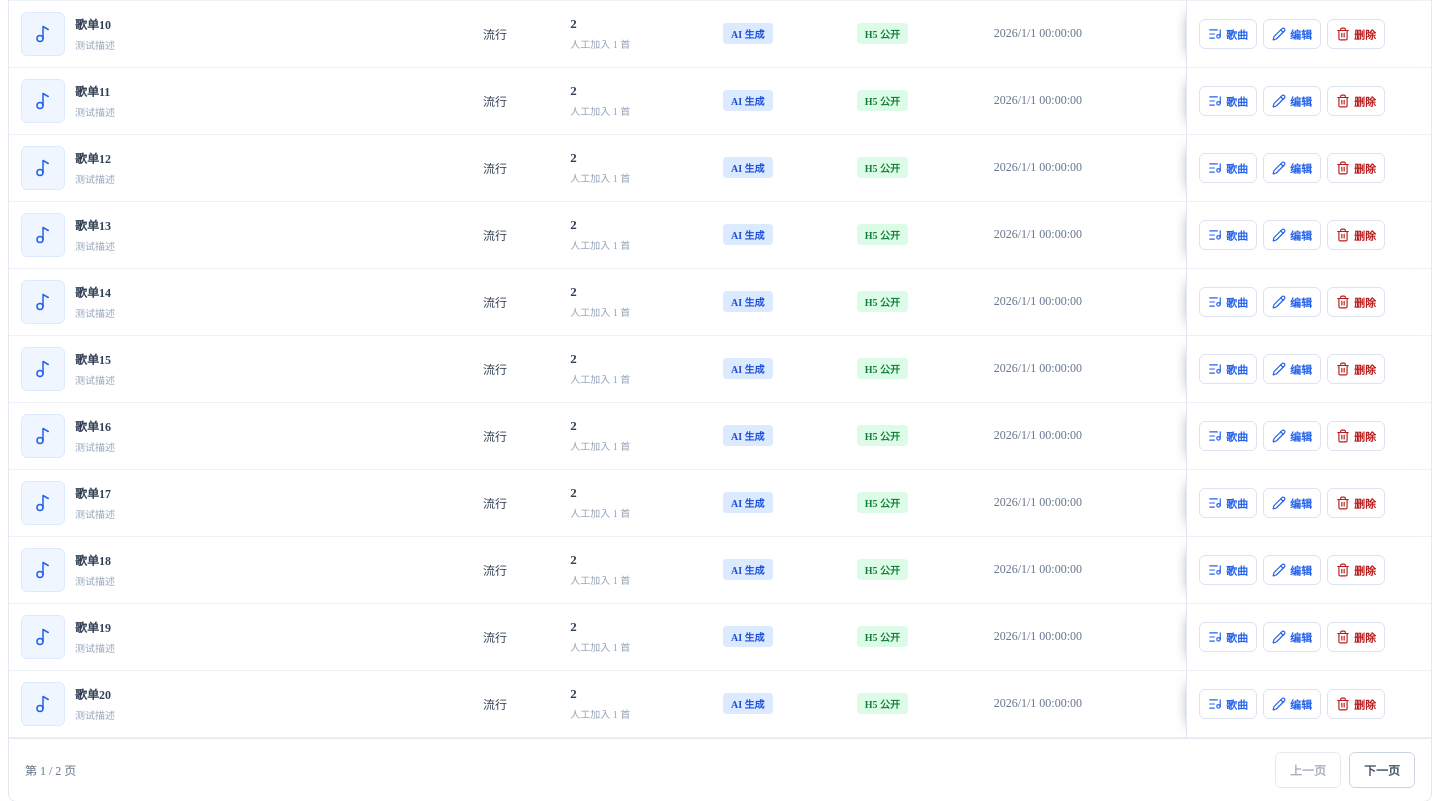
Test case: AiLibraryView › clamps the current page after deleting the only playlist on the last page
(page scrolled)
Click the button "下一页" at (1382, 770), box [1349,752,1415,788]
(page scrolled)
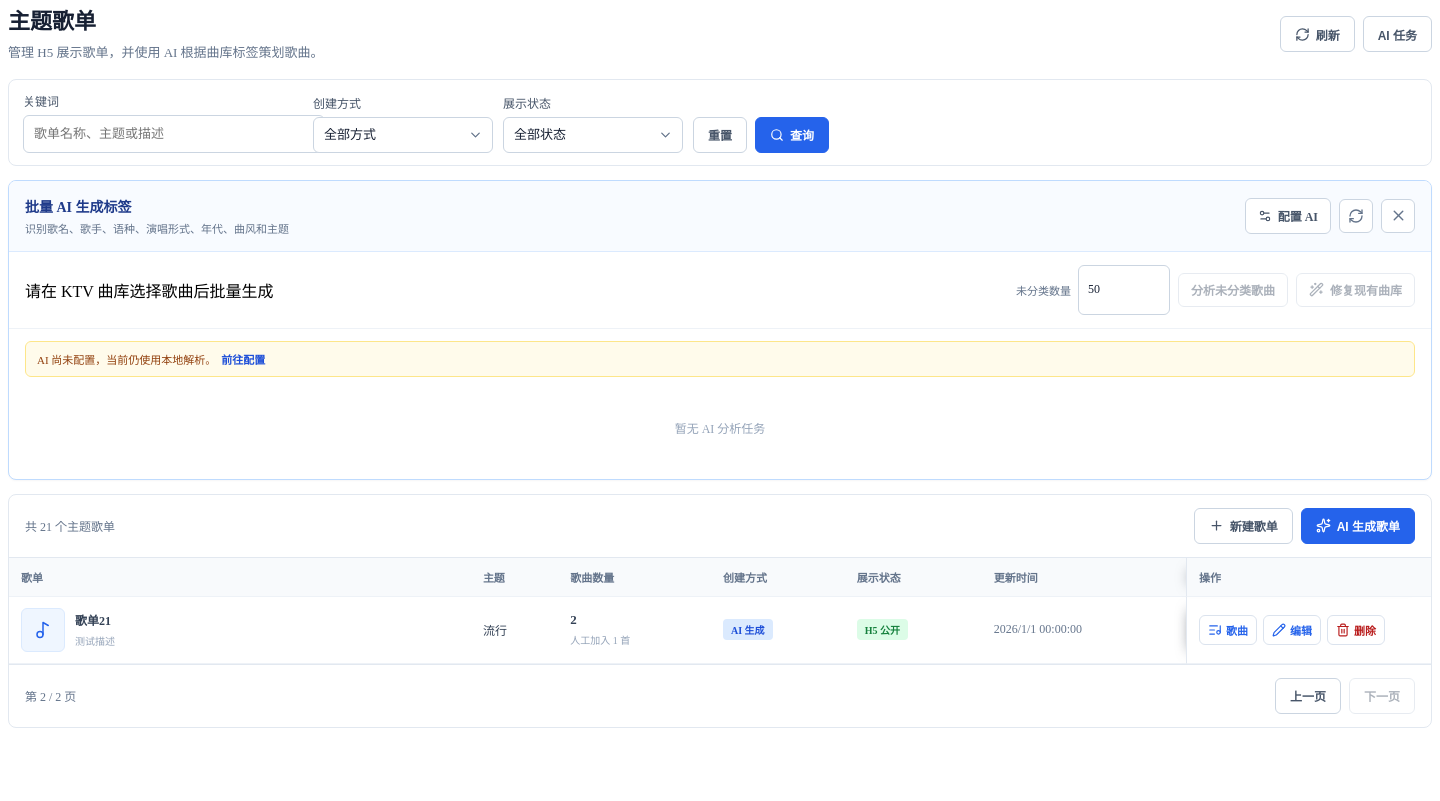
Expected: the element showing "第 2 / 2 页 上一页 下一页" is shown, [9,664,1431,726]
Expected: the row that starts with "歌单21" is shown, [75,614,111,628]
Click the button titled "管理歌曲" at (1228, 630), box [1199,614,1257,644]
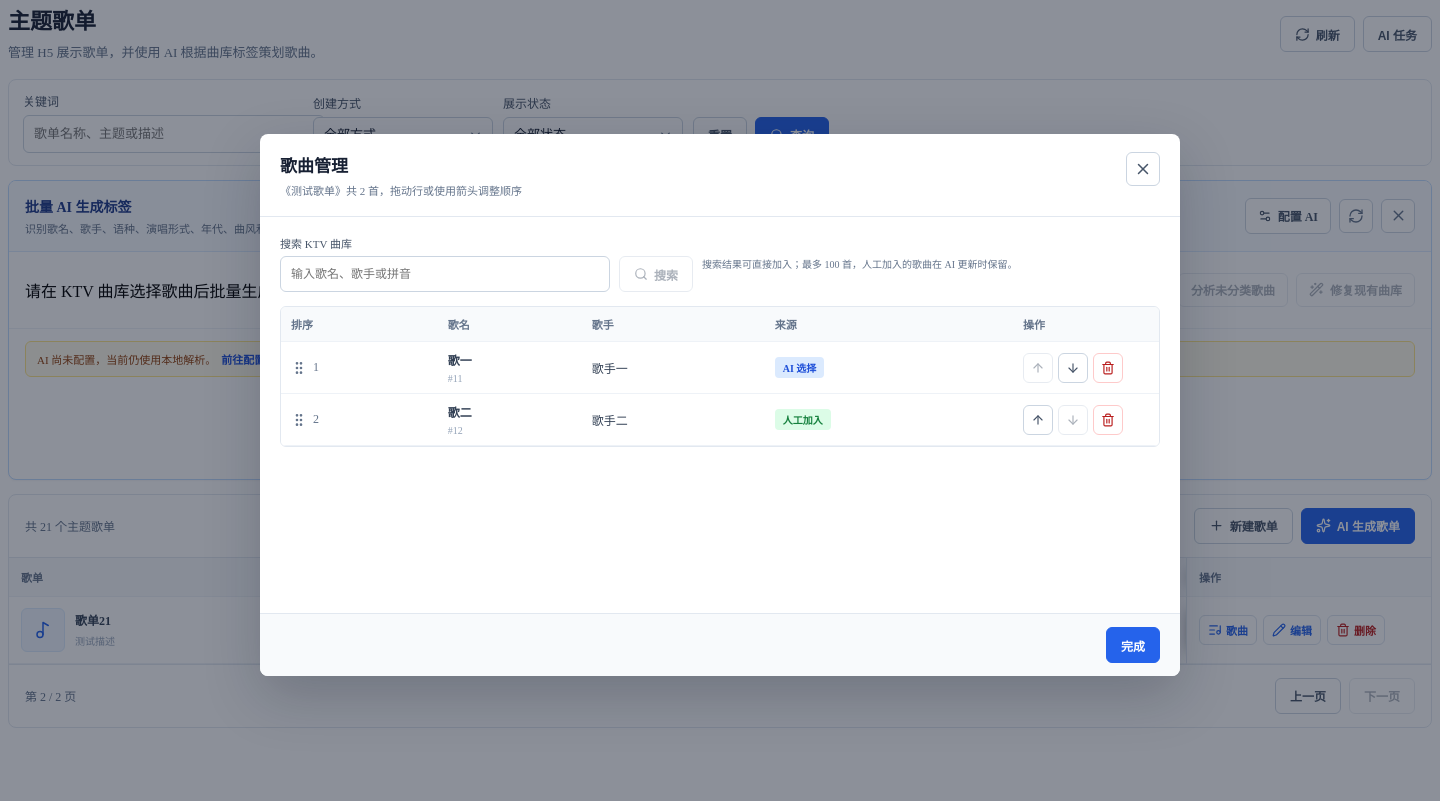
Click the button "完成" at (1133, 645), box [1106,627,1160,663]
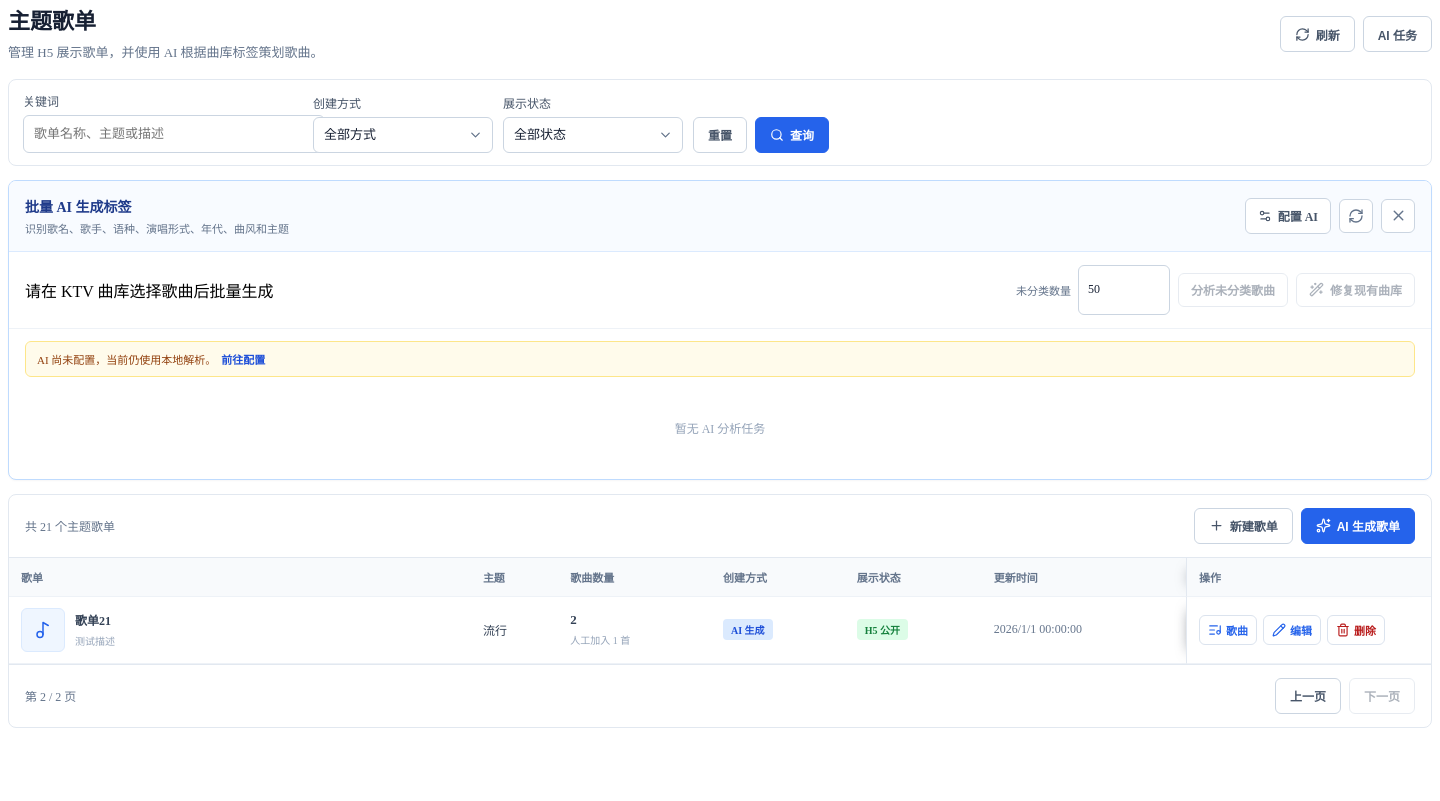
Click the button titled "删除歌单" at (1356, 630), box [1327,614,1385,644]
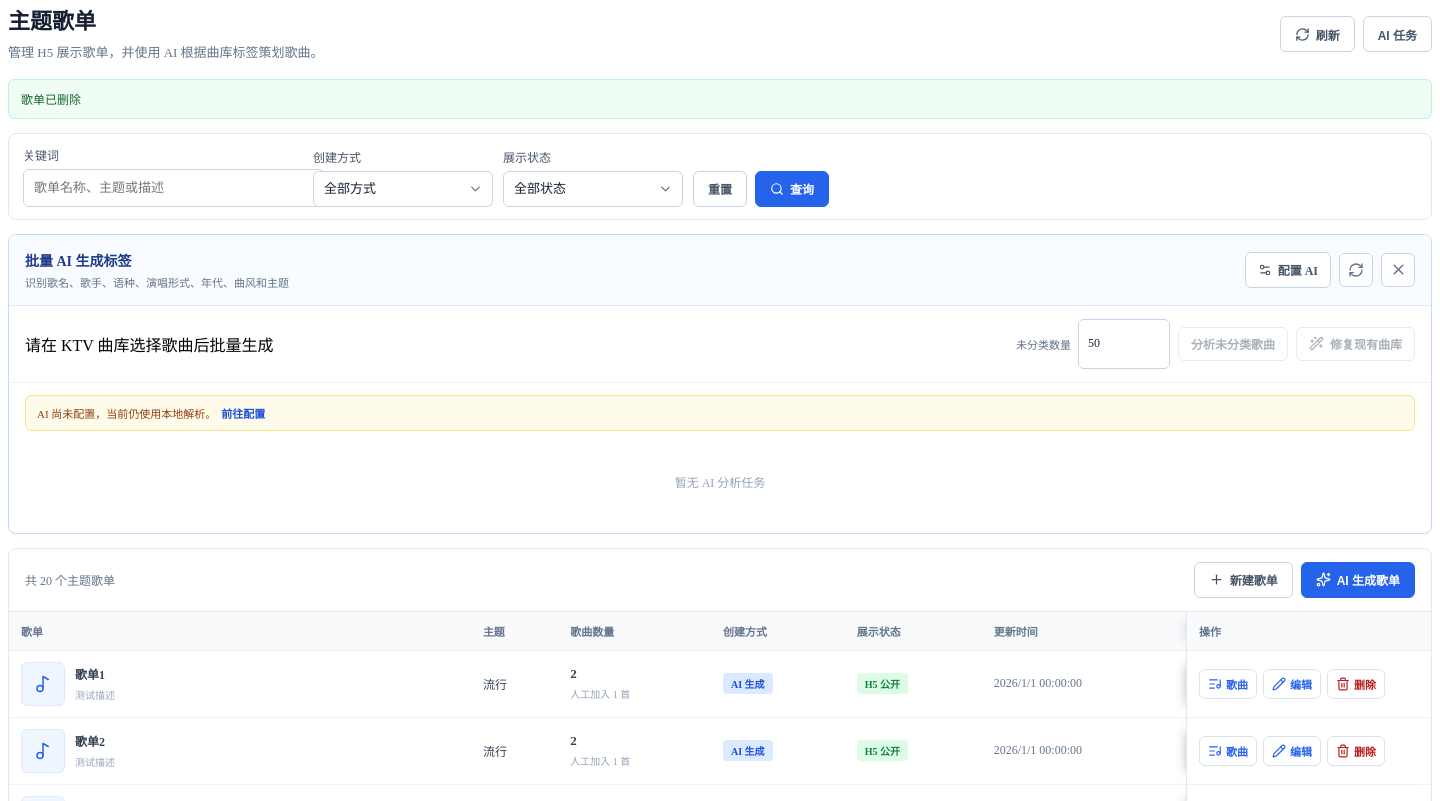
Expected: the row that starts with "歌单1" is shown, [75,668,105,682]
